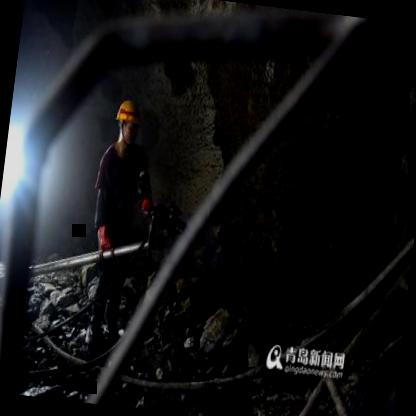helmet: (113, 94, 142, 145)
